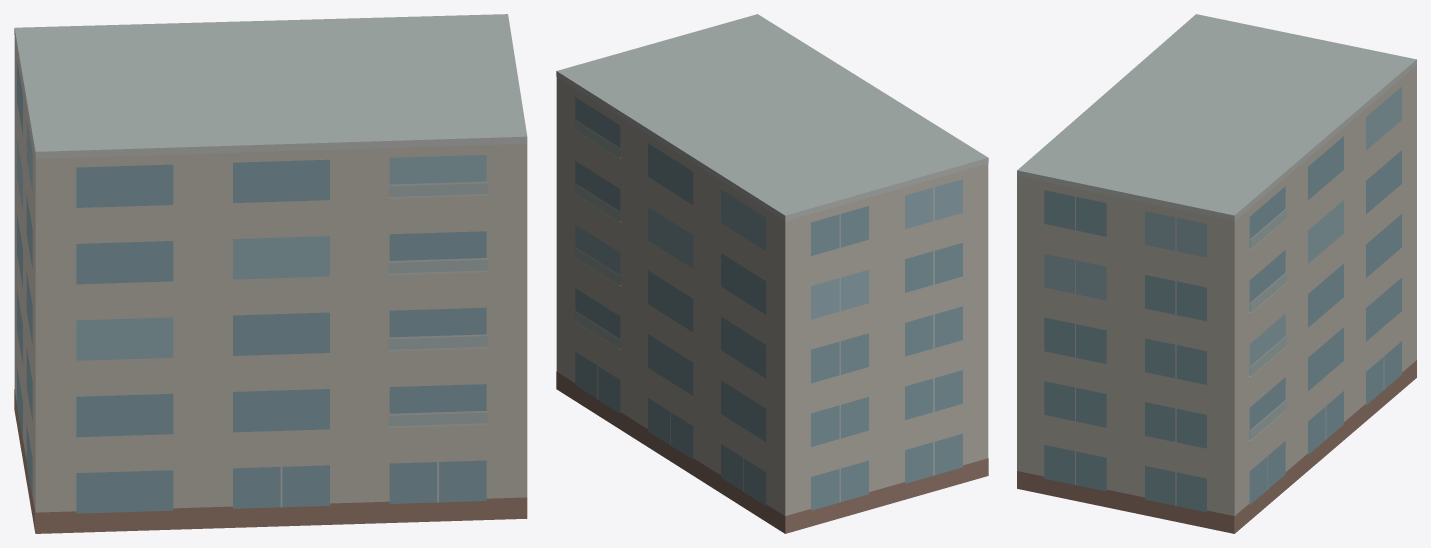
File: survey-upis-32955761.glb
3 renders of one model, left to right at view 1: azimuth 30°, elevation 25°; view 2: azimuth 150°, elevation 25°; view 3: azimuth 270°, elevation 25°, orthographic. The views are drawn at different scales.
Parts seen in each view (by area): view 1: survey-upis-32955761.tmp; view 2: survey-upis-32955761.tmp; view 3: survey-upis-32955761.tmp.
Boxes of the visible parts, box(x1,y1,x2,y2) form: survey-upis-32955761.tmp: box(14, 14, 527, 533); survey-upis-32955761.tmp: box(556, 14, 988, 533); survey-upis-32955761.tmp: box(1017, 14, 1416, 533).
Size of the model in its own units: 18.2 by 13.4 by 15.26.
